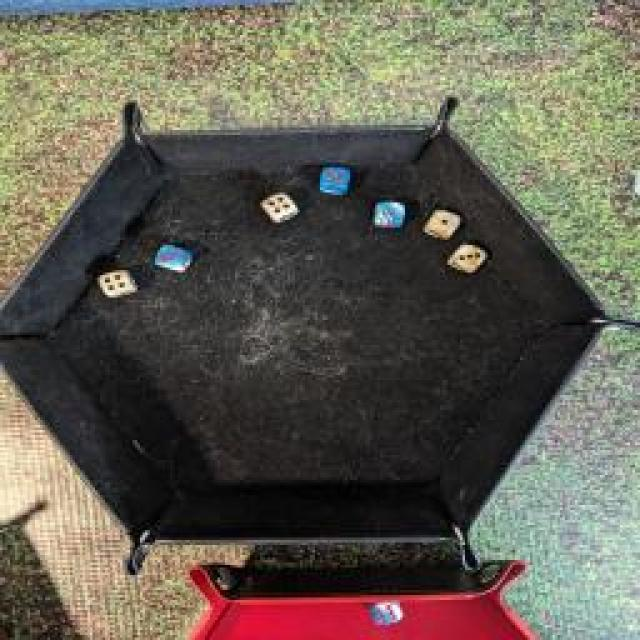dice_1: (423, 209, 465, 239), (372, 199, 410, 231)
dice_3: (445, 241, 493, 271), (152, 238, 192, 272)
dice_4: (255, 190, 300, 225), (94, 268, 138, 298)
dice_5: (311, 162, 359, 196)
dice_6: (364, 592, 408, 628)
